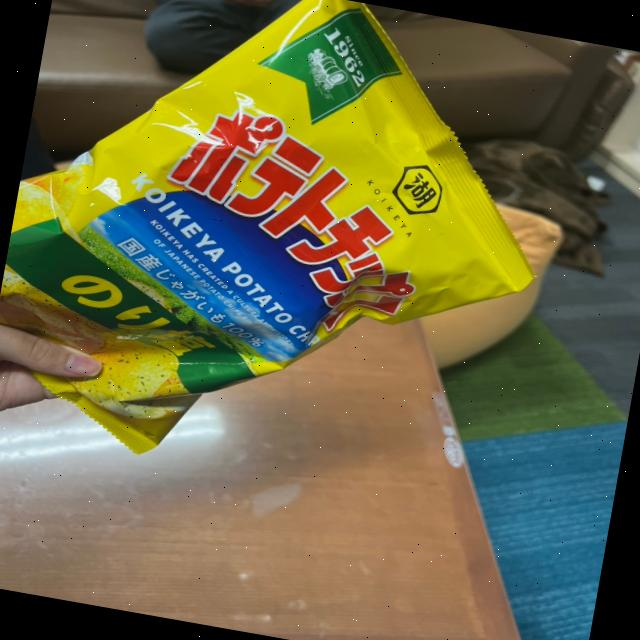chips-nori: (0, 0, 572, 520)
